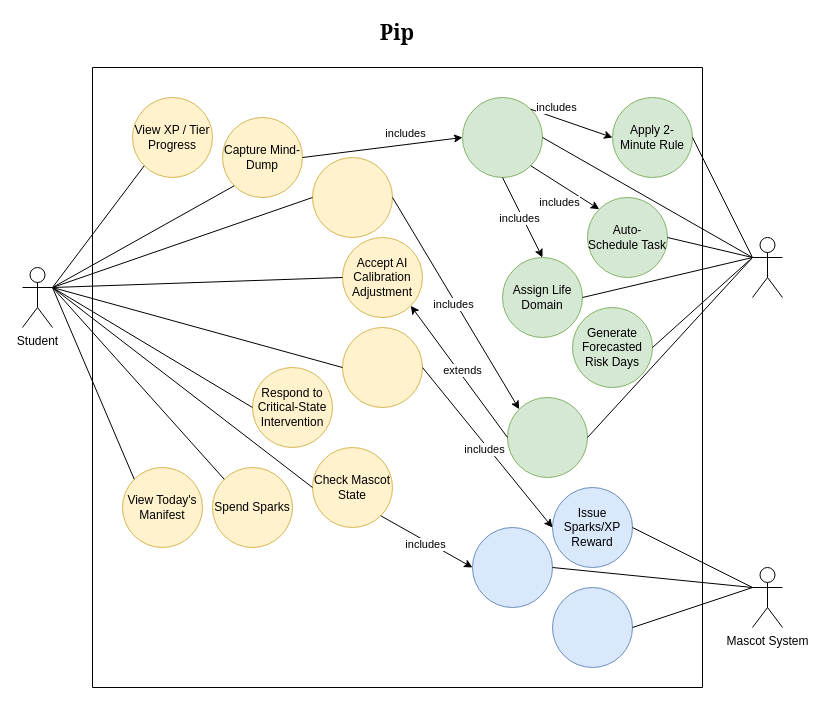
Image size: 826x705. Some labels were removed from this diagram. The shapes that lost their labels are listed below. From the top down, each one's box as (x1, y1, x2, y2) in pixels, then its label:
(462, 96, 542, 178): Extract Discrete Tasks
(312, 156, 392, 238): Perform Weekly Reflect
(752, 236, 782, 298): AI Engine
(342, 326, 422, 408): Complete Task
(506, 396, 588, 478): Propose Calibration Adjustment
(472, 526, 552, 608): Update Mascot State
(552, 586, 632, 668): Trigger De-escalation Flow
